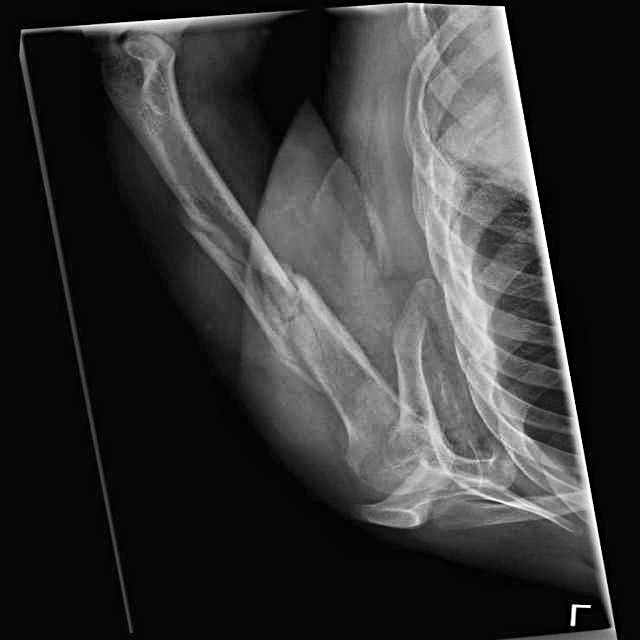Spiral: (203, 211, 369, 401)
